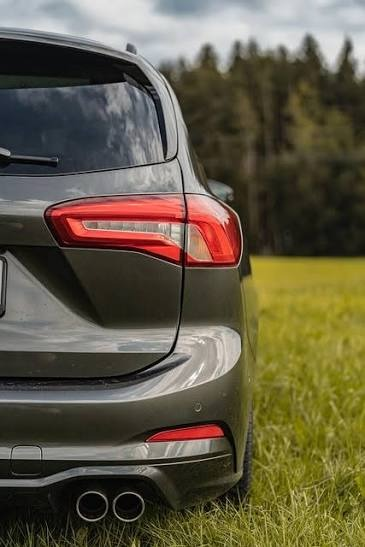car: (1, 25, 247, 534), (4, 32, 252, 340)
